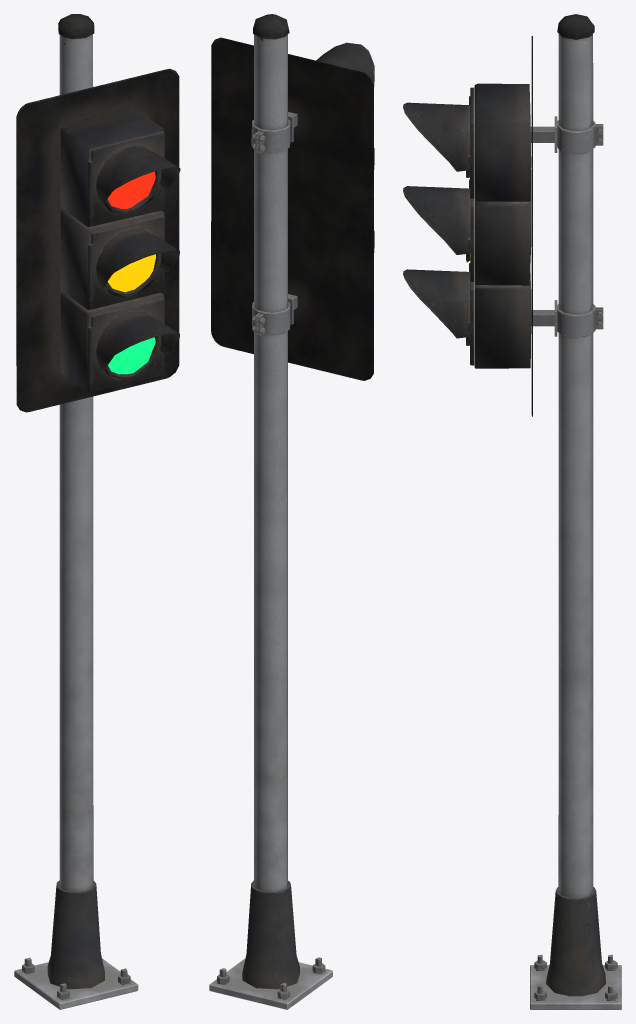
The model's file is traffic-light.glb.
3 renders of one model, left to right at view 1: azimuth 30°, elevation 25°; view 2: azimuth 150°, elevation 25°; view 3: azimuth 270°, elevation 25°, orthographic.
Visible parts, largest first — view 1: traffic-light_body, traffic-light_lens_yellow, traffic-light_lens_green, traffic-light_lens_red; view 2: traffic-light_body; view 3: traffic-light_body.
Part boxes in pixels (x1,y1,x2,y2): traffic-light_body: (14,14,180,1009); traffic-light_lens_yellow: (107,254,155,292); traffic-light_lens_green: (108,337,155,374); traffic-light_lens_red: (107,171,155,208); traffic-light_body: (209,14,374,1009); traffic-light_body: (403,14,621,1009).
Size of the model in its own units: 0.617 by 3.5 by 0.714.
Materials: 4 (1 with a texture image).
